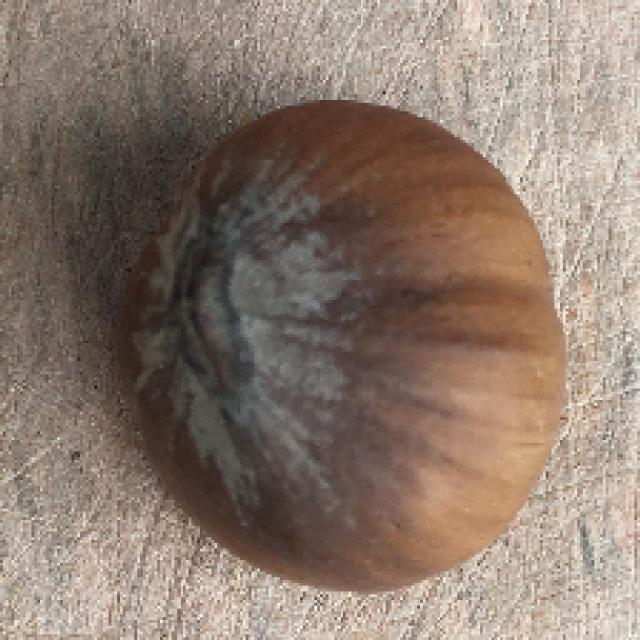DamagedHazelnut: (115, 98, 568, 588)
